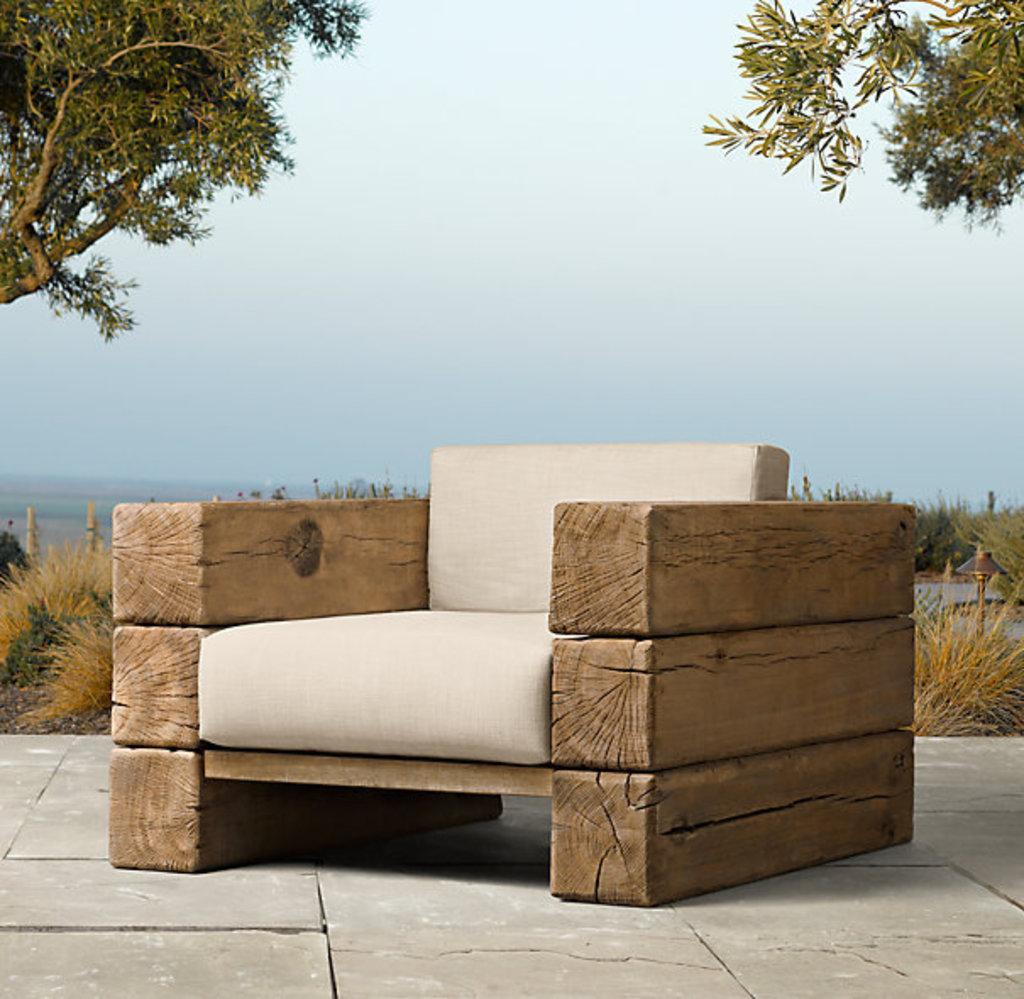Chair: (81, 435, 909, 892)
